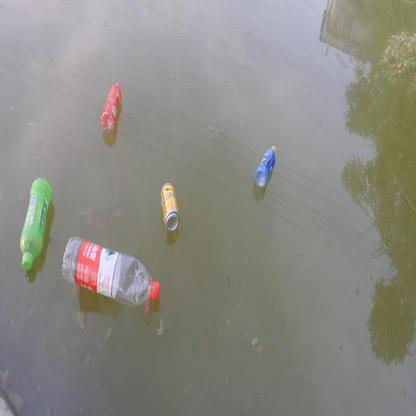can: (161, 183, 180, 231)
plastic bottle: (62, 236, 160, 304), (19, 178, 50, 270), (102, 82, 120, 129), (256, 145, 276, 186)
